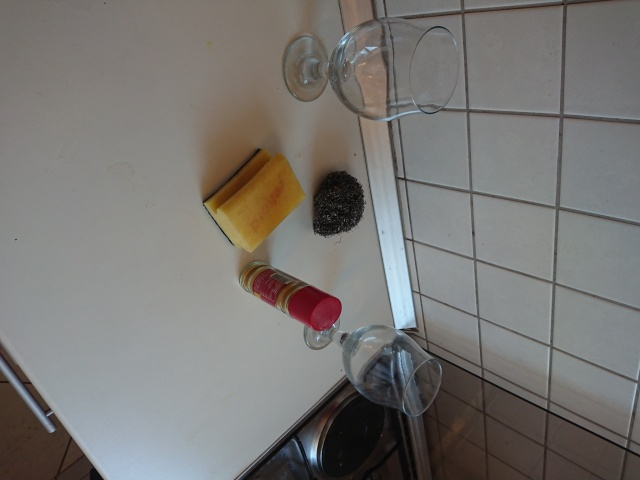Kotanyi Curry Spices Mix 70g: (236, 258, 344, 333)
